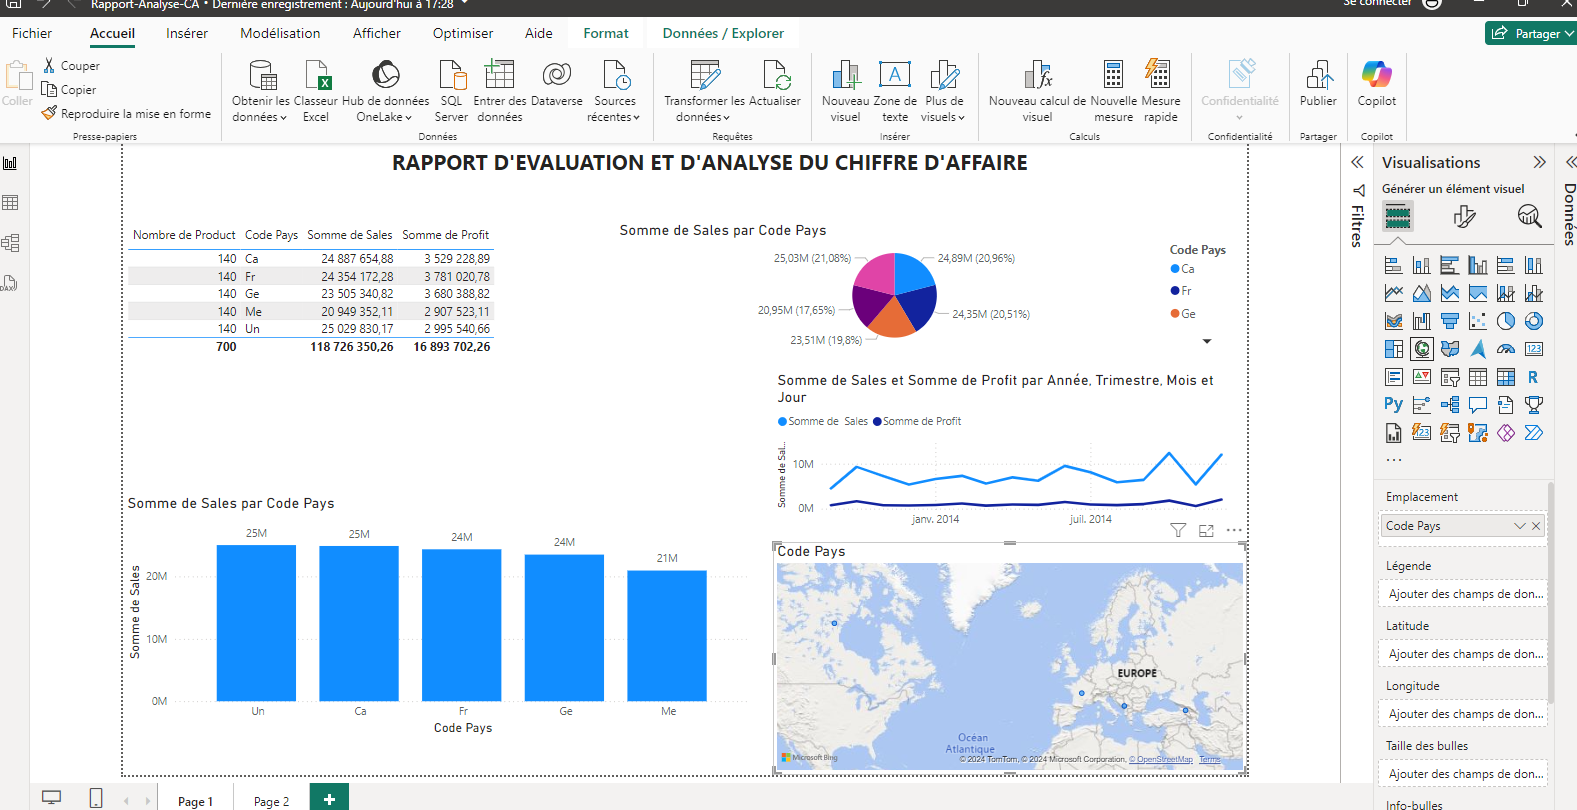

The page's visual inventory and layout, read from the dashboard file:
{"tool":"powerbi","page":{"name":"Page 1","canvas":[1280,720],"ordinal":0},"visuals":[{"type":"tableEx","fields":{"Values":["Vente.Product","Vente.Code Pays","Sum(Vente. Sales)","Sum(Vente.Profit)"]},"box":[0,88.9,720,280.3],"z":0},{"type":"clusteredColumnChart","fields":{"Category":["Vente.Code Pays"],"Y":["Sum(Vente. Sales)"]},"box":[0,399.9,720,279.1],"z":1000},{"type":"pieChart","fields":{"Series":["Vente.Code Pays"],"Y":["Sum(Vente. Sales)"]},"box":[560.5,88.9,720,150.4],"z":2000},{"type":"lineChart","fields":{"Category":["Vente.Date.Variation.Hiérarchie de dates.Année","Vente.Date.Variation.Hiérarchie de dates.Trimestre","Vente.Date.Variation.Hiérarchie de dates.Mois","Vente.Date.Variation.Hiérarchie de dates.Jour"],"Y":["Sum(Vente. Sales)","Sum(Vente.Profit)"]},"box":[740.5,259.7,540,186.8],"z":3001},{"type":"map","fields":{"Category":["Vente.Code Pays"]},"box":[740.5,454.6,540,265.4],"z":3002},{"type":"textbox","box":[268.9,0,805.4,63.8],"z":3003}]}

Visuals, with their boxes on the page's 1280x720 design canvas (x1, y1, x2, y2). These are canvas units, not pixel positions in the 1577x810 screenshot, which may show the page scaled, cropped or inside an application window:
tableEx - Vente.Product x Vente.Code Pays: (left=0, top=89, right=720, bottom=369)
clusteredColumnChart - Vente.Code Pays x Sum(Vente. Sales): (left=0, top=400, right=720, bottom=679)
pieChart - Vente.Code Pays x Sum(Vente. Sales): (left=560, top=89, right=1280, bottom=239)
lineChart - Vente.Date.Variation.Hiérarchie de dates.Année x Vente.Date.Variation.Hiérarchie de dates.Trimestre: (left=740, top=260, right=1280, bottom=446)
map - Vente.Code Pays: (left=740, top=455, right=1280, bottom=720)
textbox: (left=269, top=0, right=1074, bottom=64)
